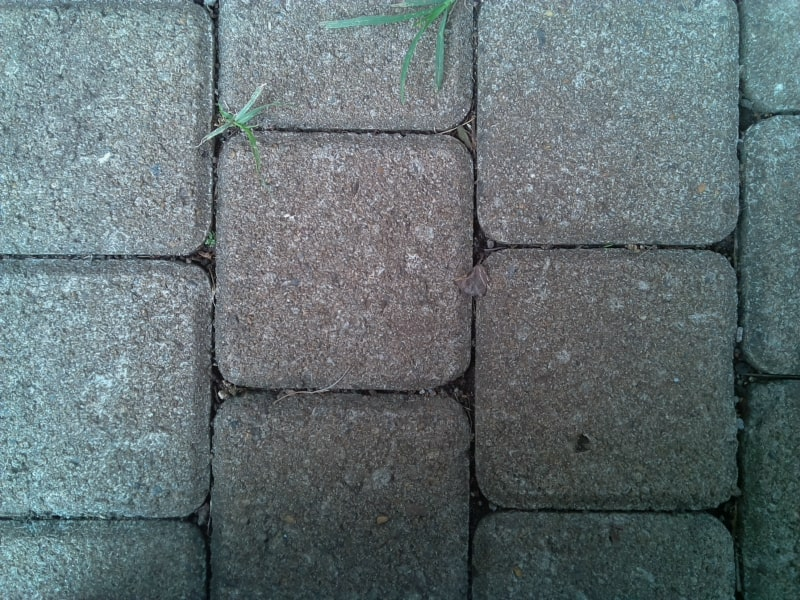Weed: (336, 2, 456, 72), (213, 100, 275, 146), (203, 230, 219, 250)
